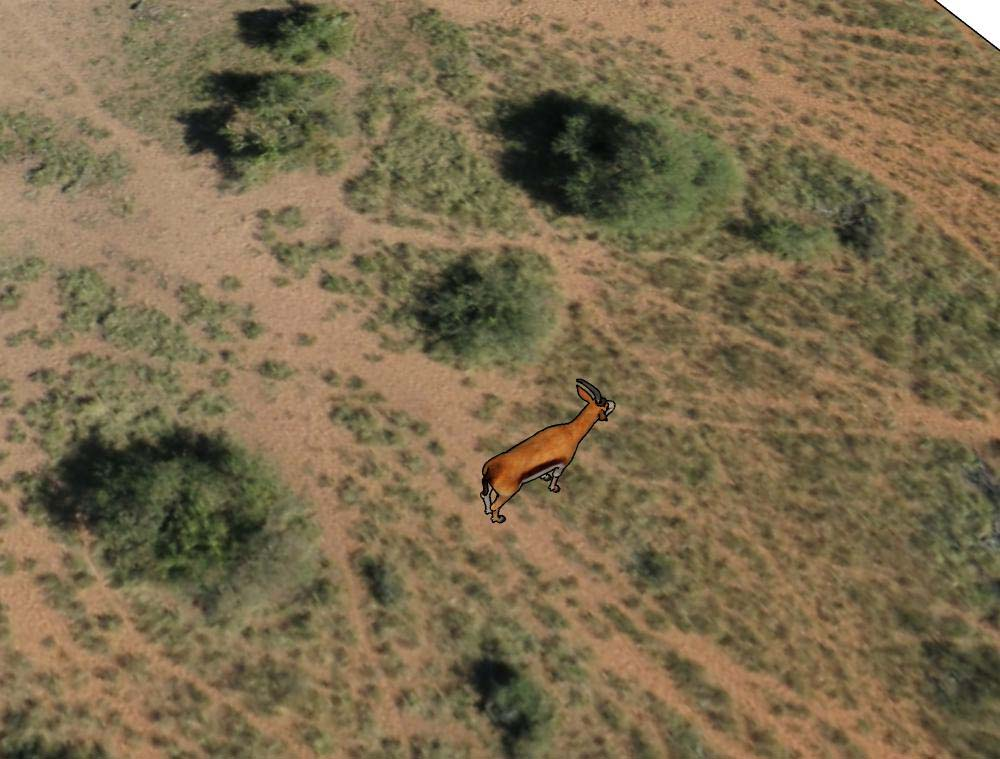springbok: (477, 379, 617, 522)
